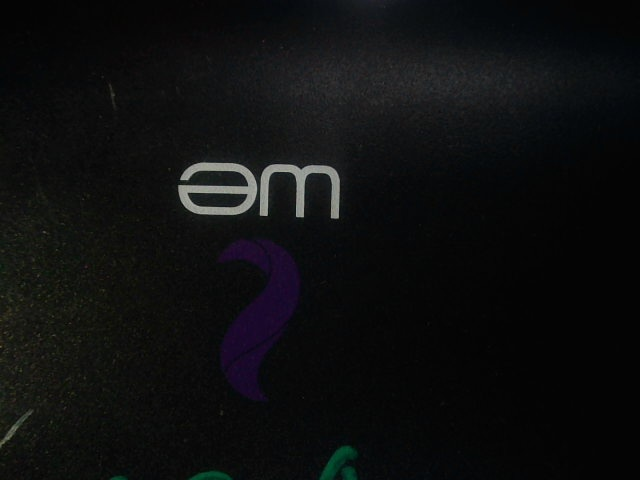AT_We: (163, 153, 347, 404)
